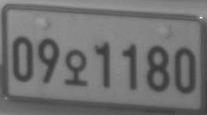0: (173, 47, 197, 94), (12, 35, 34, 83)
1: (119, 42, 144, 91), (92, 40, 116, 88)
8: (146, 45, 171, 92)
9: (37, 37, 60, 84)
오: (63, 49, 88, 87)
